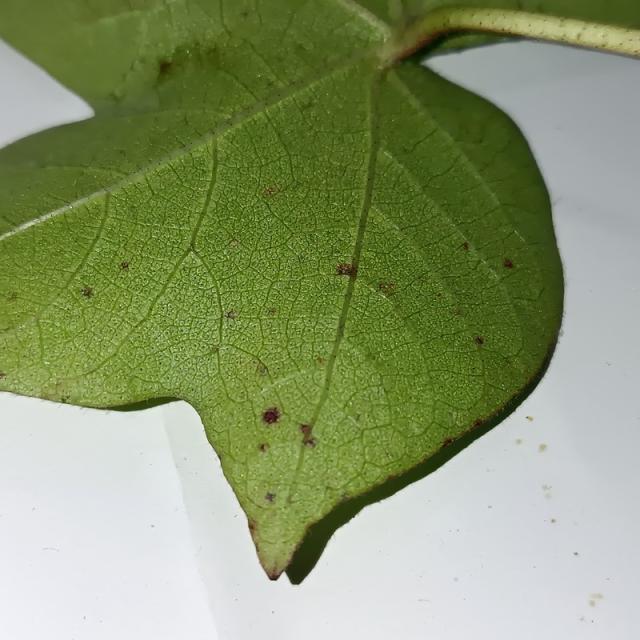Bacterial_Blight: (335, 251, 357, 289), (299, 425, 318, 447), (261, 406, 282, 425), (587, 593, 605, 613), (157, 60, 175, 78), (378, 281, 397, 296), (80, 287, 94, 299), (334, 324, 346, 338), (502, 257, 514, 269), (300, 424, 312, 436), (6, 292, 19, 303), (264, 492, 276, 503), (257, 364, 268, 375), (265, 187, 277, 197), (440, 438, 453, 447), (120, 261, 130, 271), (226, 310, 237, 319), (474, 336, 484, 345), (259, 443, 268, 453), (60, 395, 70, 404), (473, 419, 483, 428), (453, 307, 462, 316), (268, 307, 277, 316), (461, 242, 469, 251), (316, 357, 324, 366), (230, 239, 238, 247), (379, 282, 386, 290), (0, 371, 6, 380)
Cotton: (0, 0, 639, 582)
